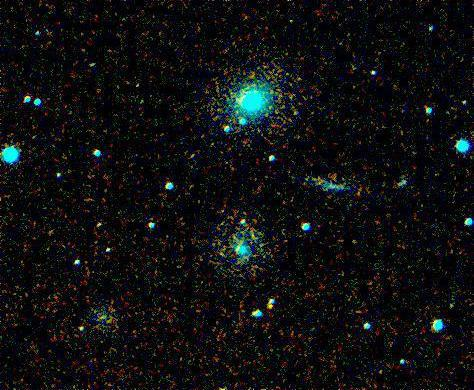star: (262, 288, 292, 318)
